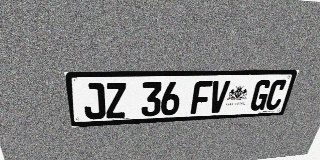3: (141, 82, 162, 117)
6: (160, 81, 182, 116)
C: (264, 79, 288, 110)
F: (190, 81, 213, 114)
G: (249, 80, 273, 111)
J: (82, 83, 106, 120)
V: (207, 80, 230, 113)
Z: (105, 82, 126, 119)
